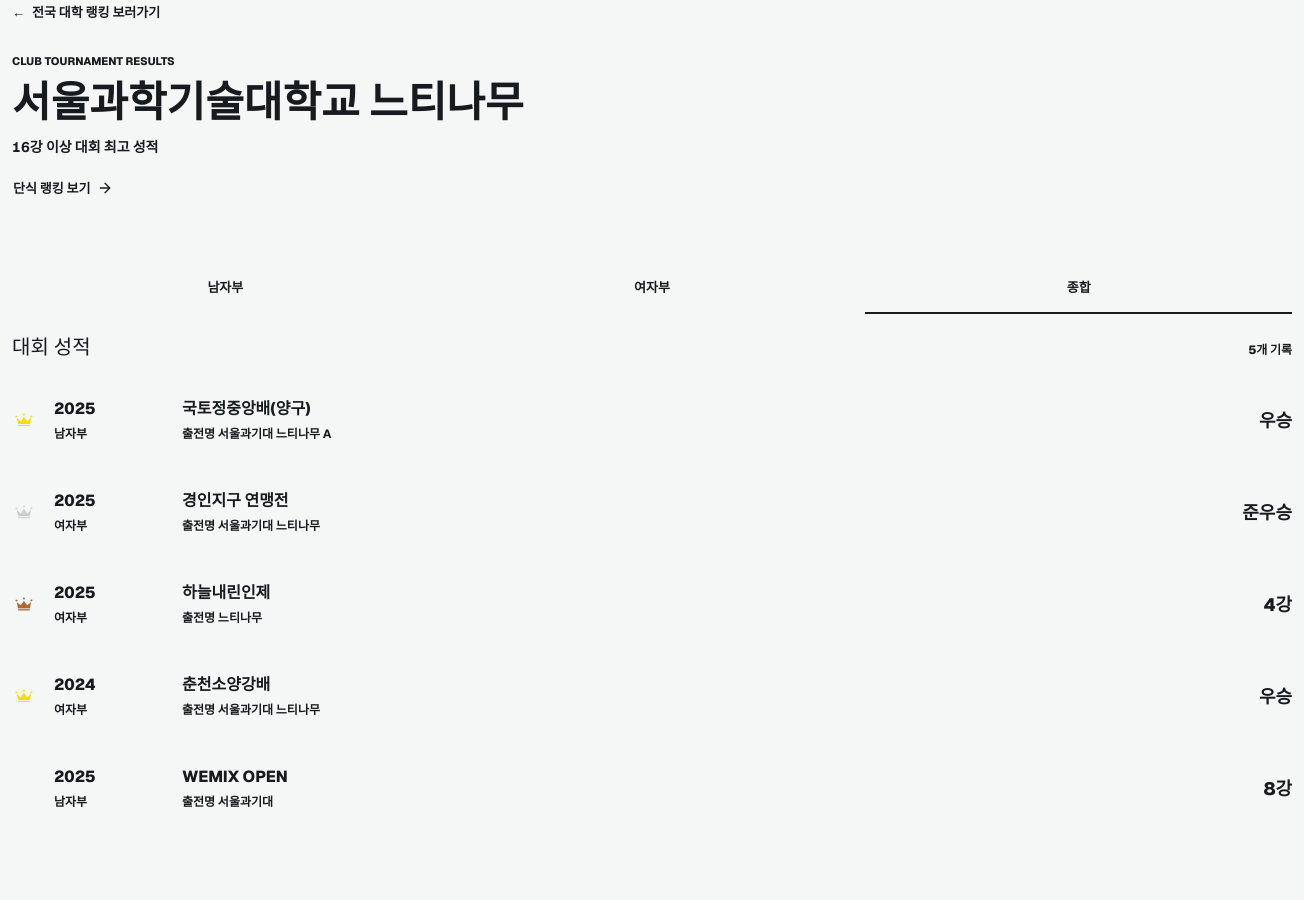
Test: NationalClubResultsView › 남자부를 선택하면 기록 수와 URL을 함께 바꾼다
Click the tab "남자부".
click(225, 288)  # box [12,262,439,314]
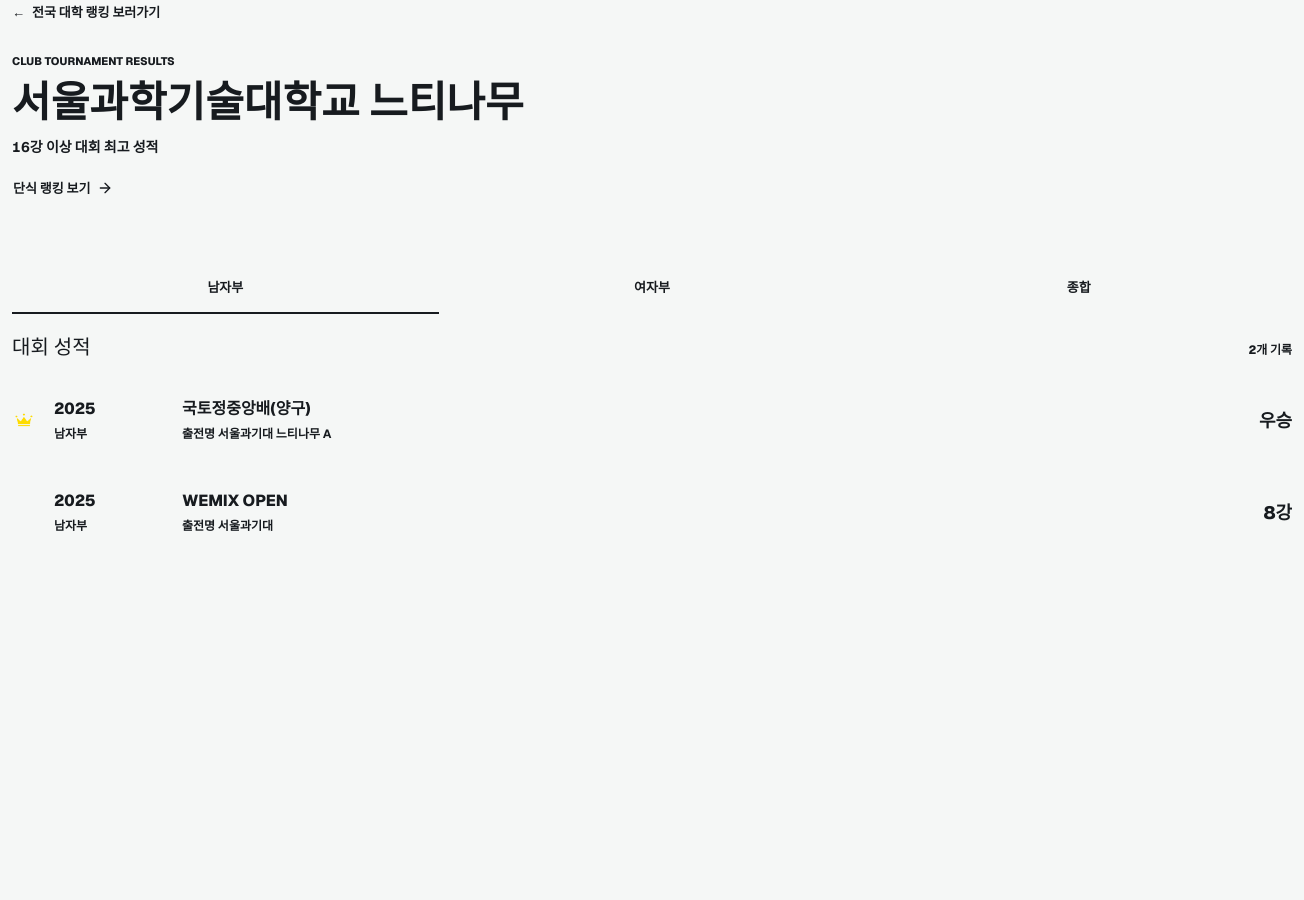
Check: the text "2개 기록" is shown, box [1248,341,1292,359]
Check: the number of list items is 2, box [15,398,1292,442]; [54,490,1292,534]
Check: the text "경인지구 연맹전" is gone
